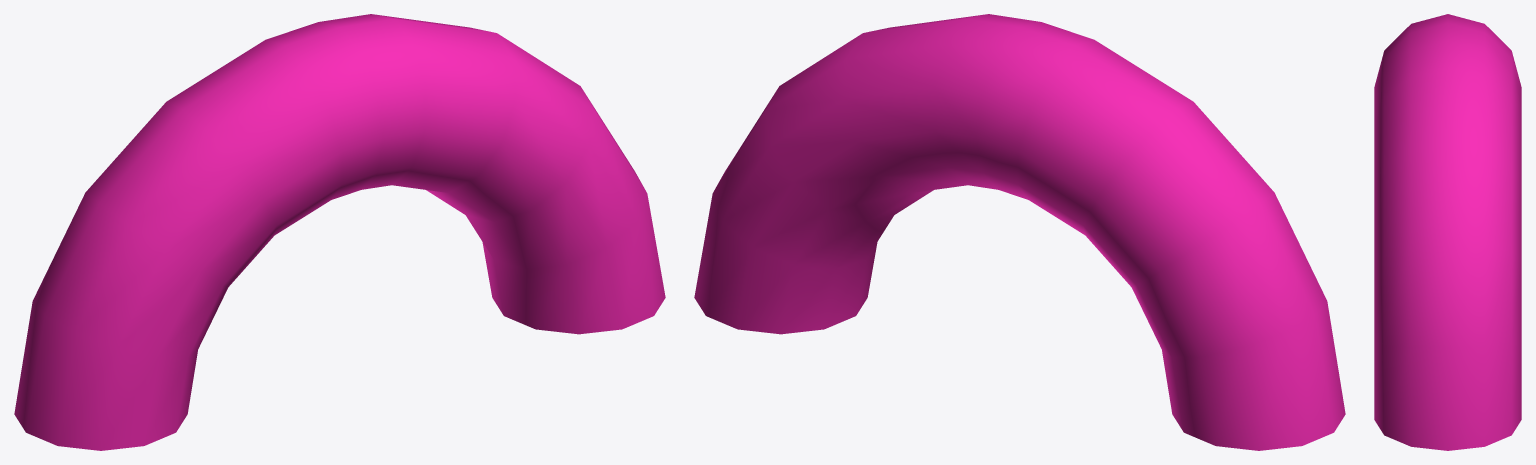
Rendered from MD_Roots_002.FBX.
3 renders of one model, left to right at view 1: azimuth 30°, elevation 25°; view 2: azimuth 150°, elevation 25°; view 3: azimuth 270°, elevation 25°, orthographic. The views are drawn at different scales.
Visible parts, largest first — view 1: Roots_002; view 2: Roots_002; view 3: Roots_002.
Boxes of the visible parts, x1,y1,x2,y2 form: Roots_002: (14,14,665,450); Roots_002: (694,14,1345,450); Roots_002: (1374,14,1521,450).
Bounding box in the file's own units: 1.67 × 0.8366 × 0.4.
